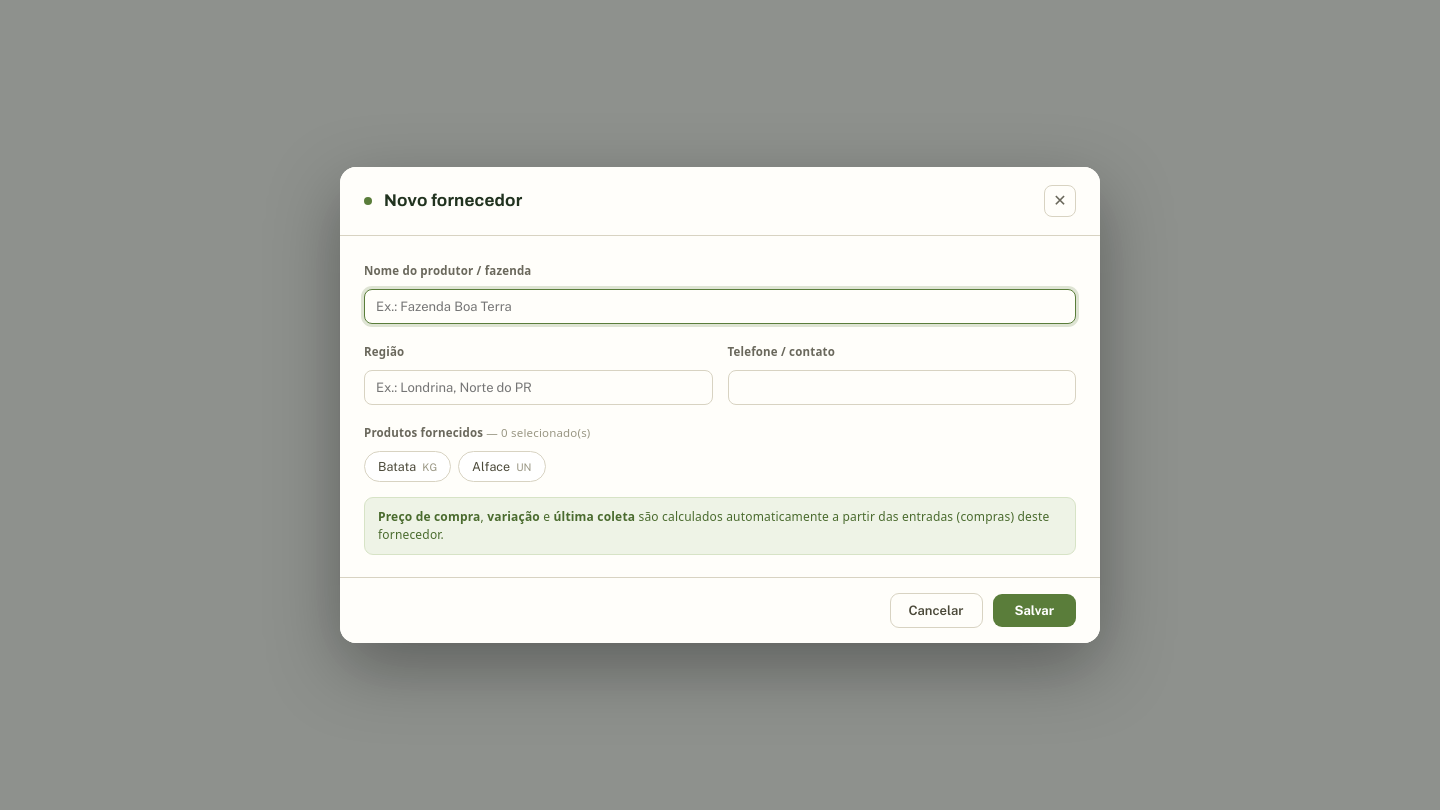
ModalFornecedor — seleção de produtos › clicar num produto marca como selecionado e atualiza a contagem
Click the button "Batata KG". click: x=408, y=467
box: top-left (364, 451), bottom-right (451, 482)
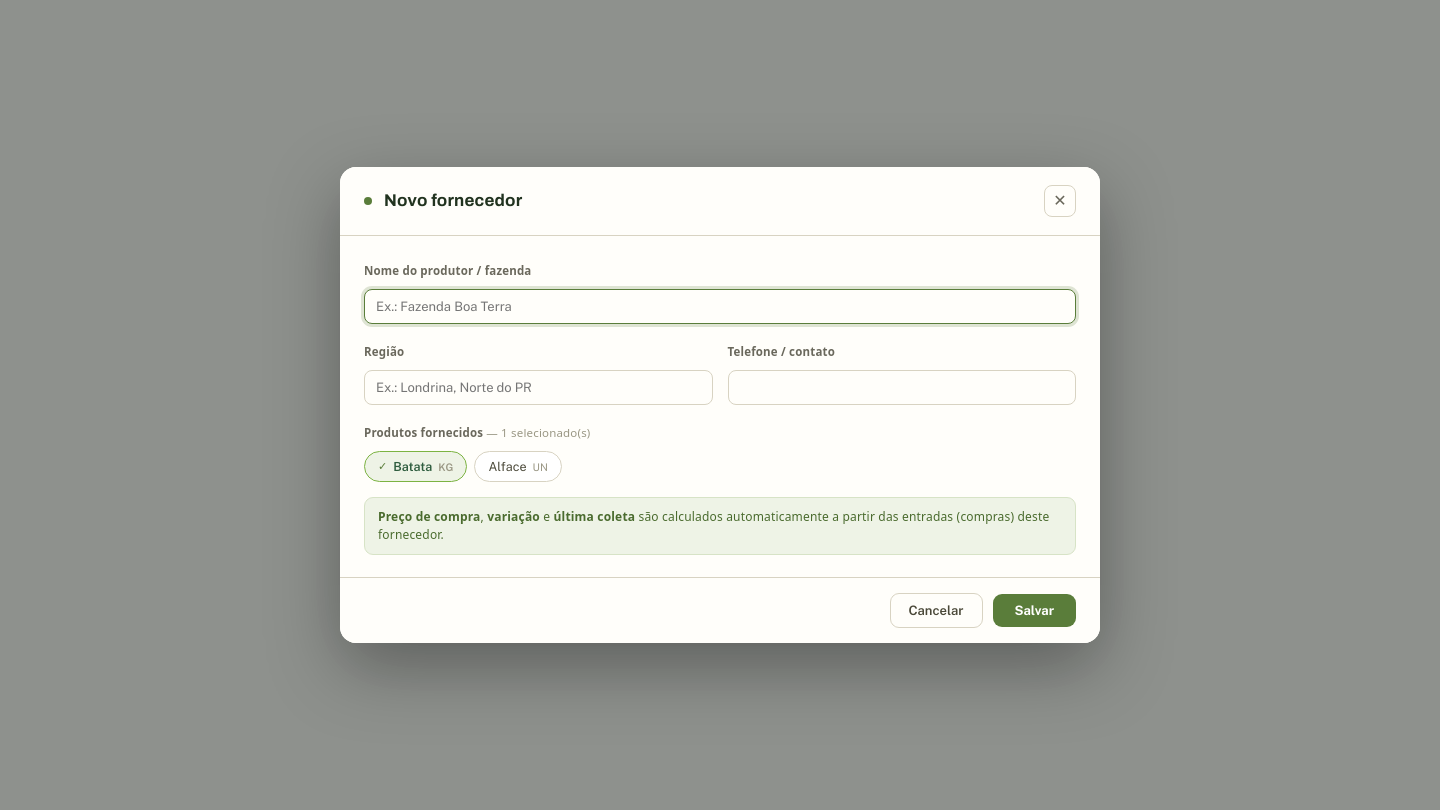
Expected: the text "— 1 selecionado(s)" is shown, top-left (486, 425), bottom-right (590, 440)
